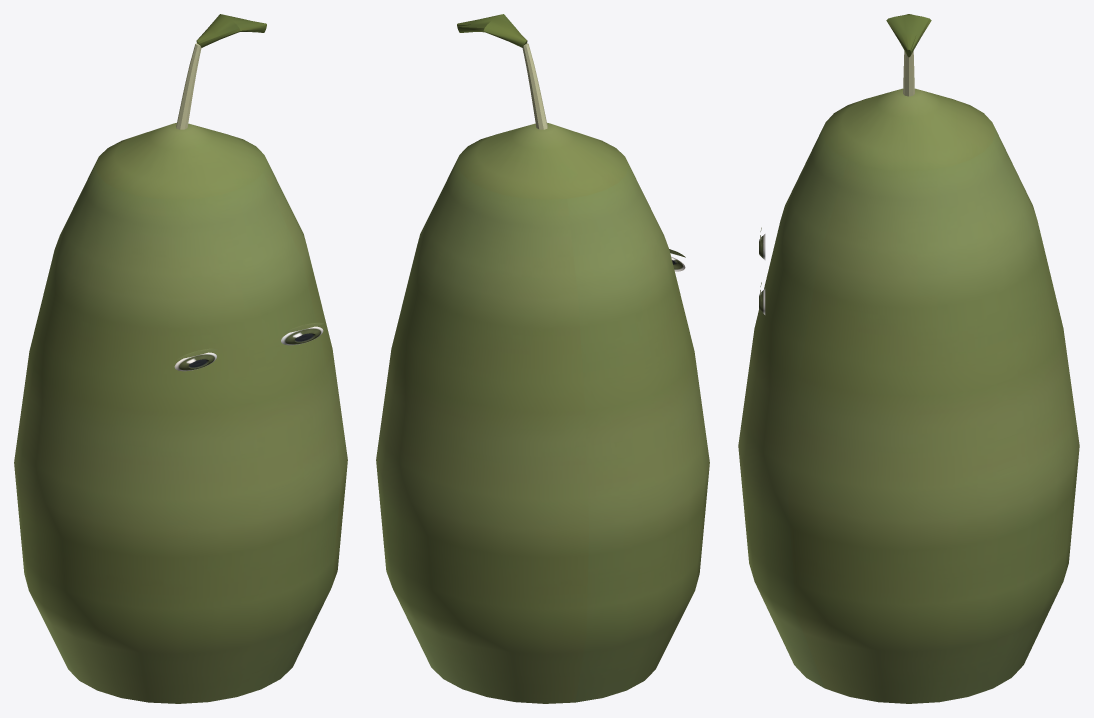
File: sp_dokumayu-3xyccwkd.glb
3 renders of one model, left to right at view 1: azimuth 30°, elevation 25°; view 2: azimuth 150°, elevation 25°; view 3: azimuth 270°, elevation 25°, orthographic. The views are drawn at different scales.
Parts seen in each view (by area): view 1: Body, Leaf, Face; view 2: Body, Leaf; view 3: Body, Leaf.
Boxes of the visible parts, left/top/right/bottom form: Body: left=14, top=123, right=347, bottom=703; Leaf: left=176, top=14, right=266, bottom=129; Face: left=174, top=322, right=323, bottom=371; Body: left=376, top=123, right=709, bottom=703; Leaf: left=457, top=14, right=547, bottom=129; Body: left=738, top=88, right=1079, bottom=703; Leaf: left=886, top=14, right=931, bottom=96.
Bounding box in the file's own units: 0.33 × 0.6949 × 0.316.
1 material, 1 textured.
